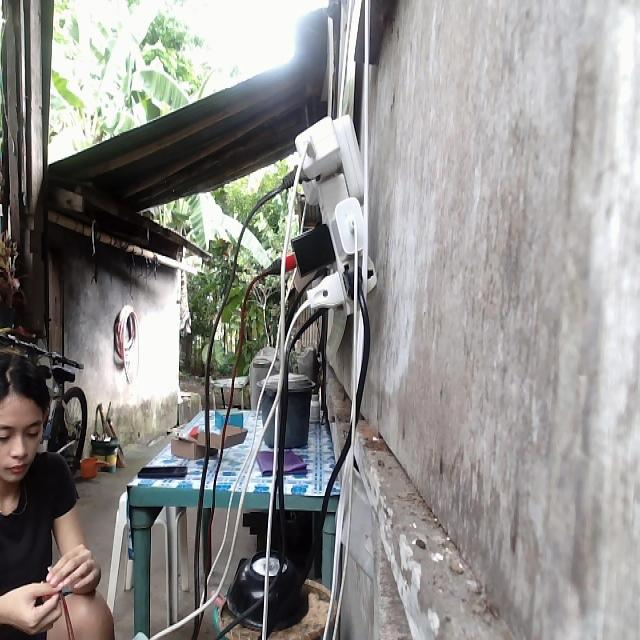-: (276, 111, 376, 317)
